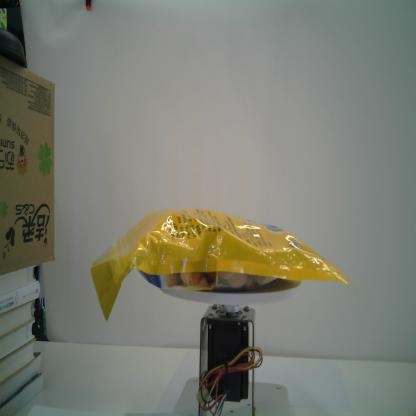Dried Food: (91, 206, 354, 322)
